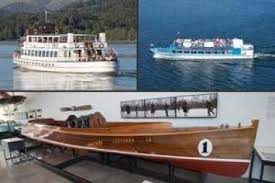boat: (1, 92, 260, 179), (11, 11, 120, 70), (148, 34, 256, 61)
